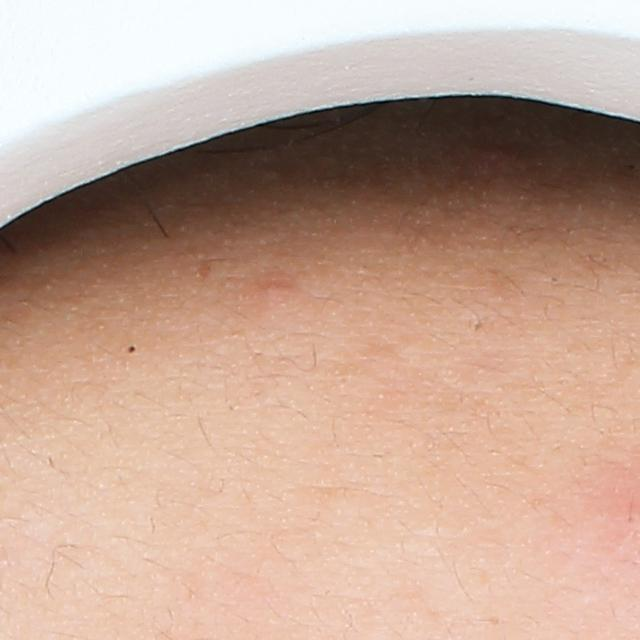comedo: (126, 342, 139, 356)
